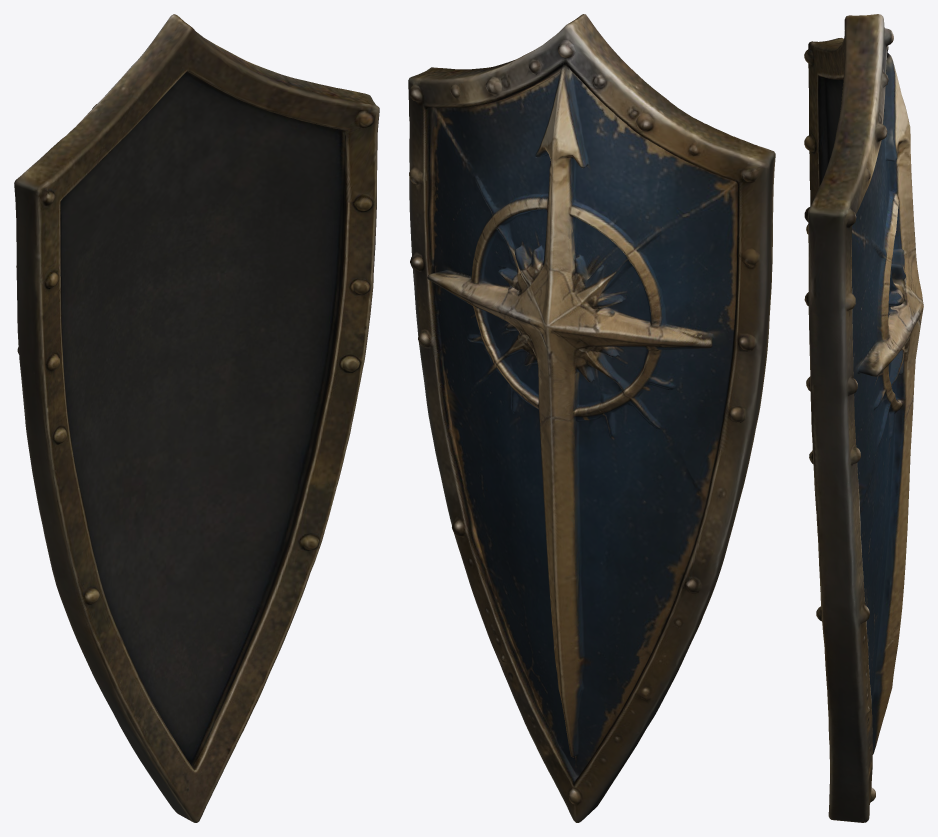
Rendered from kite_compass.glb.
3 renders of one model, left to right at view 1: azimuth 30°, elevation 25°; view 2: azimuth 150°, elevation 25°; view 3: azimuth 270°, elevation 25°, orthographic.
Parts seen in each view (by area): view 1: kite_compass; view 2: kite_compass; view 3: kite_compass.
Part boxes in pixels (<box>): kite_compass: <box>14,14,379,822</box>; kite_compass: <box>408,14,775,822</box>; kite_compass: <box>804,14,923,822</box>.
Bounding box in the file's own units: 0.3936 × 0.8385 × 0.1125.
1 material, 1 textured.
